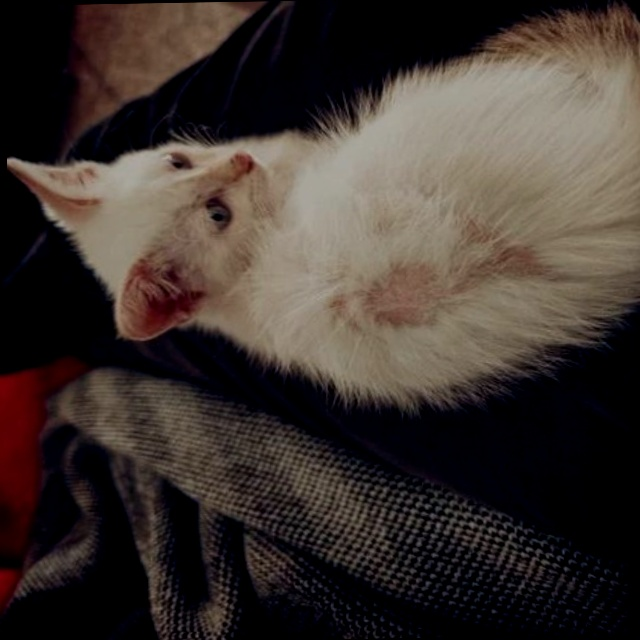hairloss: (355, 233, 540, 321)
